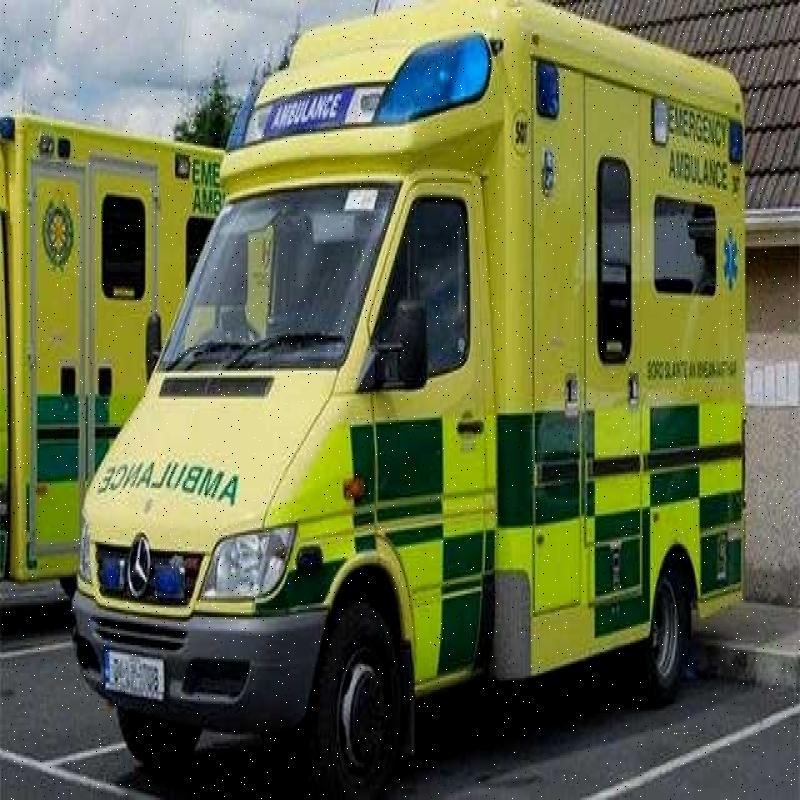AmbulanceSiren: (253, 51, 501, 134)
